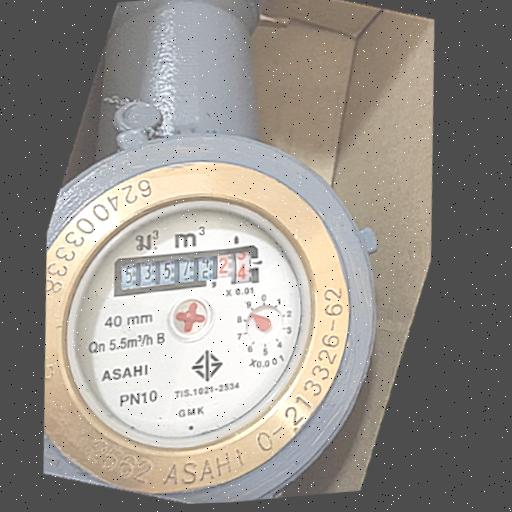2: (217, 254, 232, 279)
3: (140, 262, 157, 287)
4: (234, 251, 251, 282), (199, 257, 214, 281)
5: (120, 263, 137, 289), (160, 260, 175, 285)
7: (178, 258, 195, 282)
border_water_meter_number: (112, 243, 263, 299)
